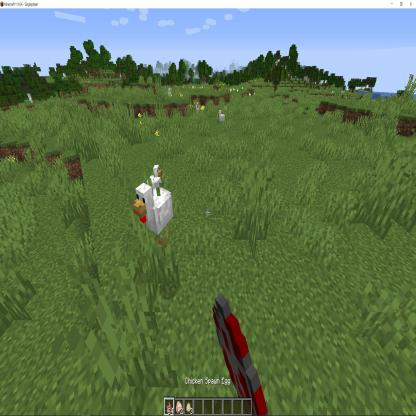minecraft-pigs: (134, 184, 176, 248), (146, 164, 164, 184), (216, 106, 227, 127), (194, 100, 202, 116), (167, 87, 173, 101)
